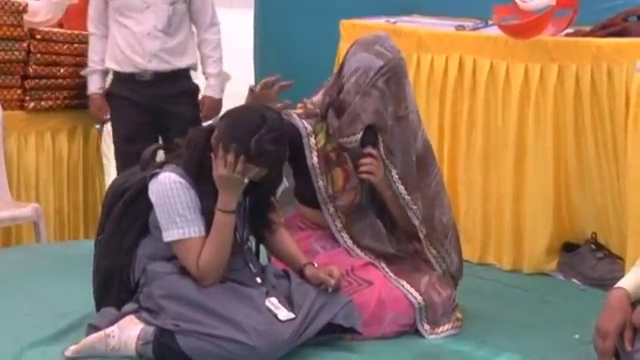helmet: (21, 1, 79, 30)
helmet_off: (325, 29, 412, 129), (208, 99, 291, 176)
person: (61, 100, 363, 360), (258, 29, 456, 330), (86, 0, 227, 176), (594, 255, 640, 350), (0, 146, 41, 234)
